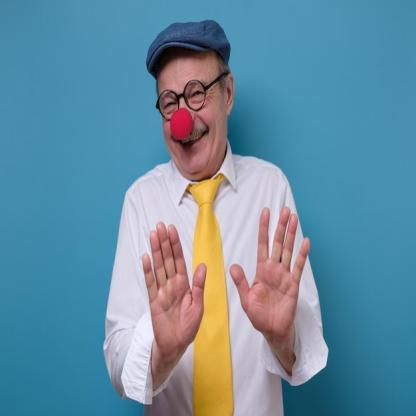stop: (228, 203, 312, 347), (140, 216, 209, 360)
